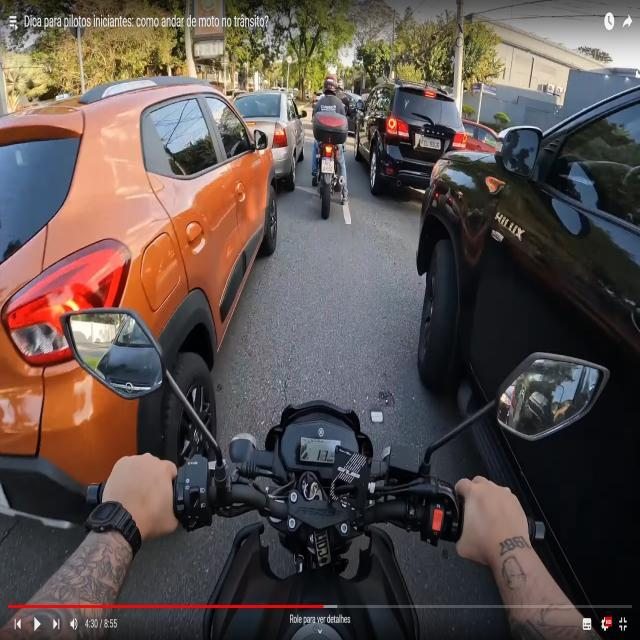placa_moto: (319, 153, 336, 175)
